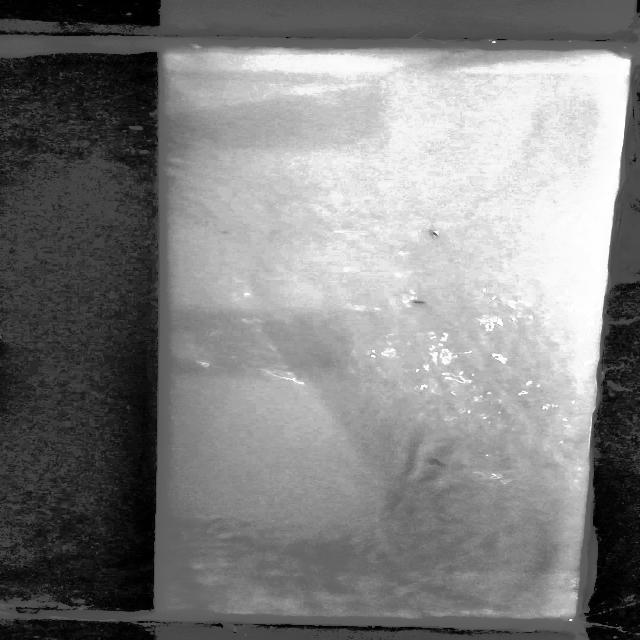shrimp: (426, 227, 446, 240), (427, 455, 447, 467), (408, 298, 430, 304)
